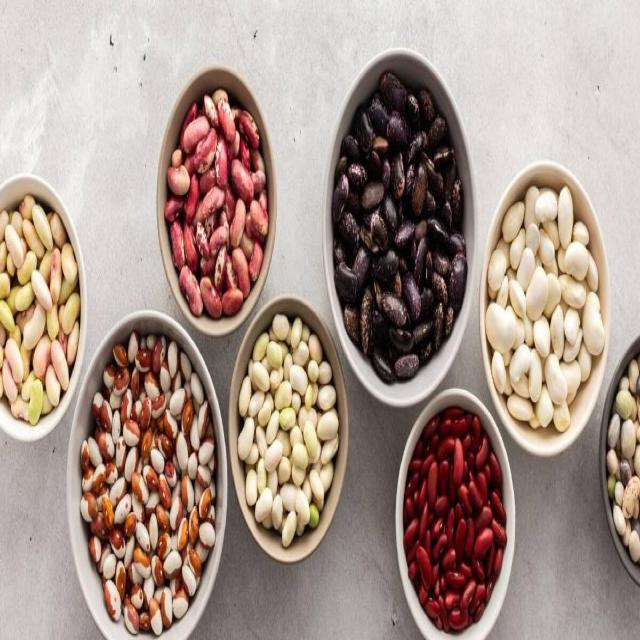frijoles: (401, 402, 507, 624)
